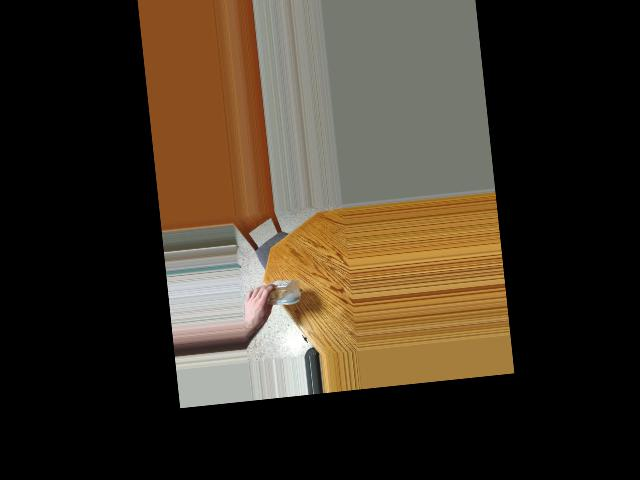cheese: (256, 271, 306, 316)
